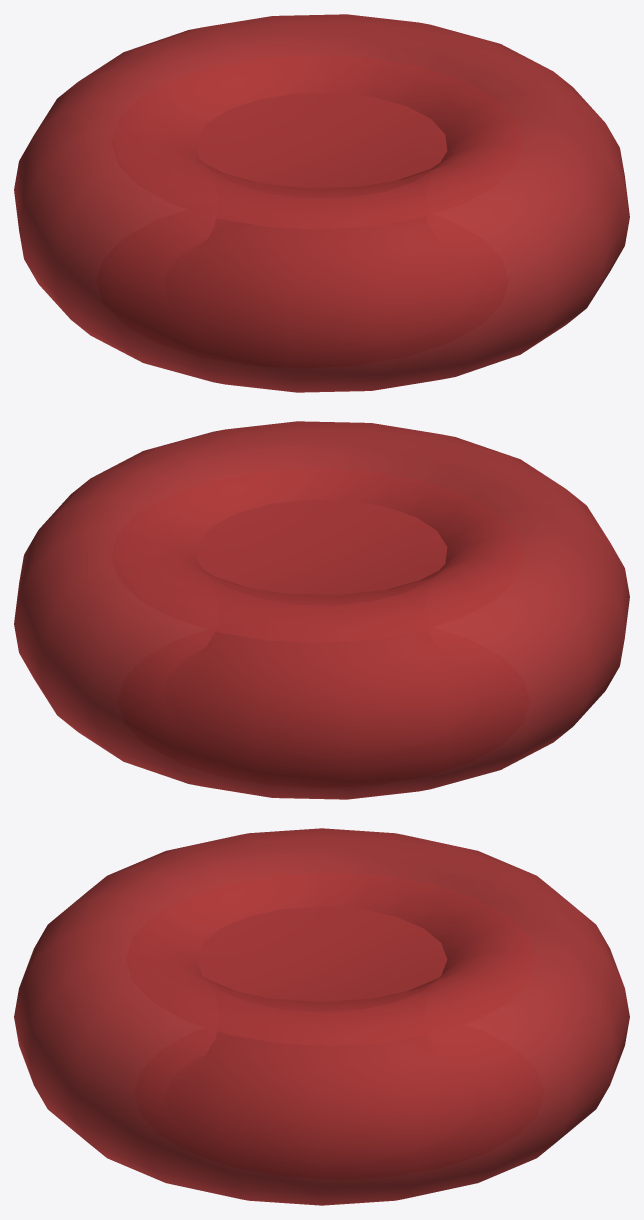
The model's file is RedbloodCell.fbx.
3 renders of one model, top to bottom at view 1: azimuth 30°, elevation 25°; view 2: azimuth 150°, elevation 25°; view 3: azimuth 270°, elevation 25°, orthographic.
Visible parts, largest first — view 1: pTorus2, pDisc2; view 2: pTorus2, pDisc2; view 3: pTorus2, pDisc2.
Part boxes in pixels (x1,y1,x2,y2): pTorus2: [14, 14, 629, 392]; pDisc2: [196, 92, 447, 187]; pTorus2: [14, 421, 629, 799]; pDisc2: [196, 499, 447, 594]; pTorus2: [14, 828, 629, 1205]; pDisc2: [196, 906, 447, 1001].
Size of the model in its own units: 3 by 1 by 3.
